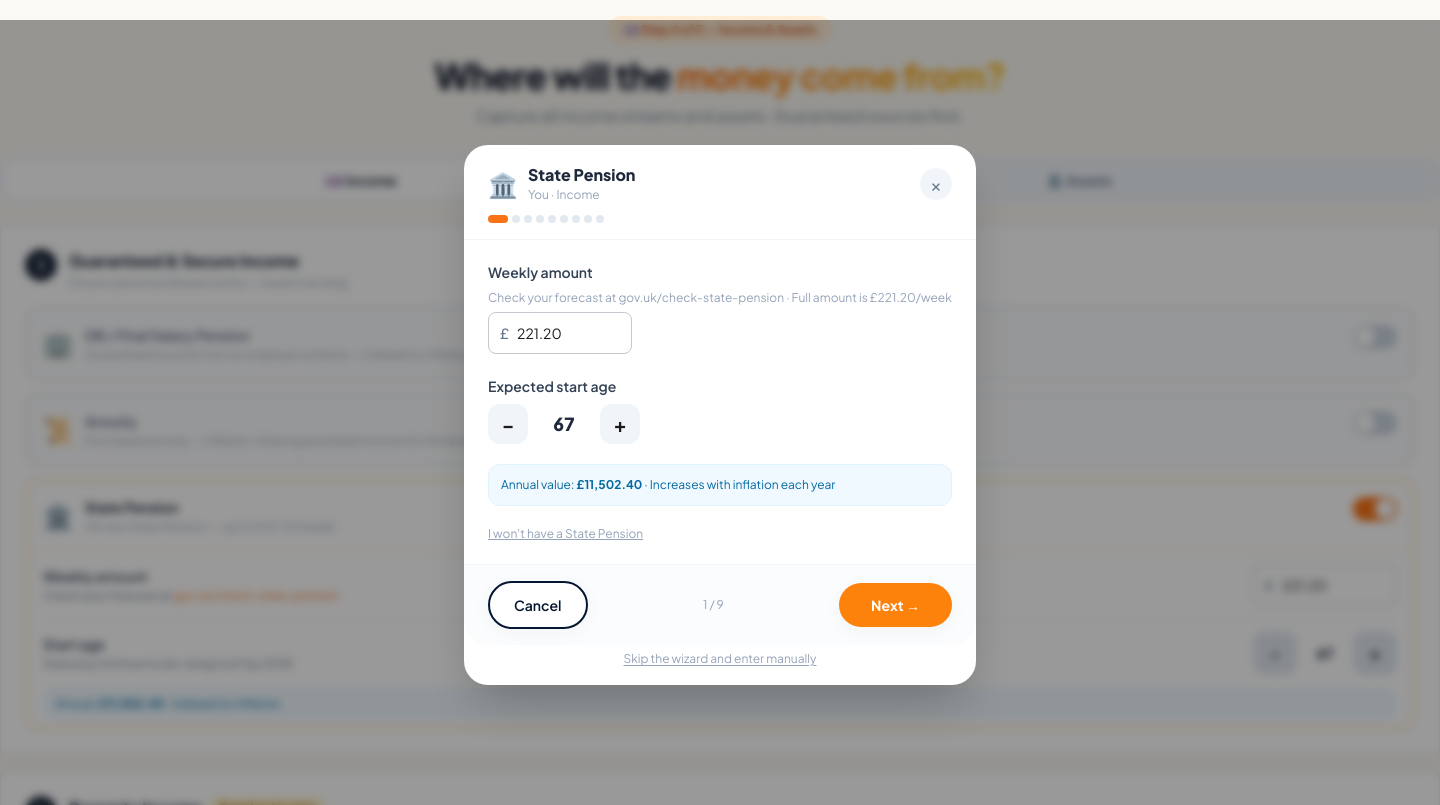
Test: Step3IncomeSources — guided wizard default behaviour › "Re-open guided setup" link shows the wizard again after dismissal
Click the button "Skip the wizard and enter manually".
click(720, 659)  # box [624, 651, 816, 667]
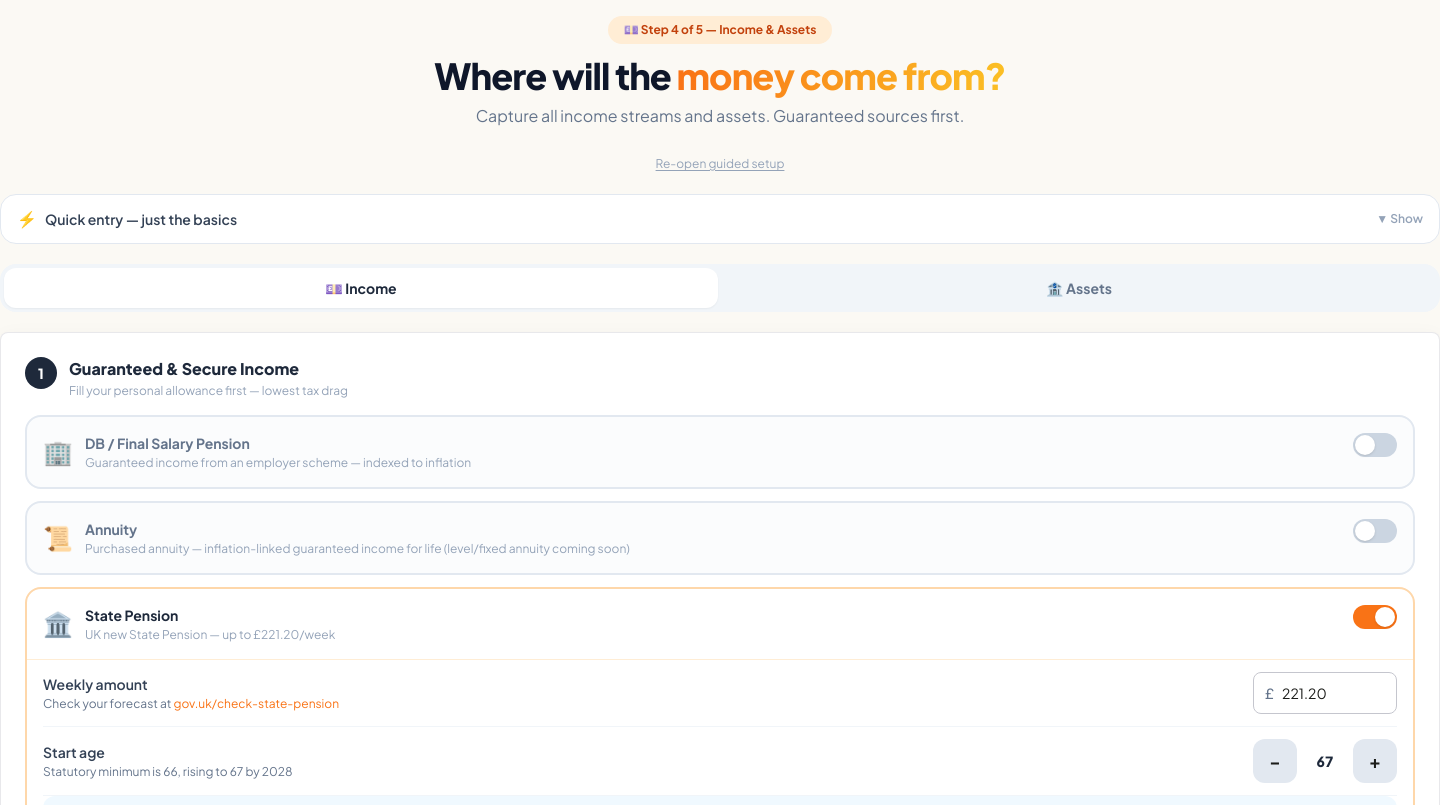
Click the button "Re-open guided setup".
click(720, 164)  # box [0, 156, 1439, 172]
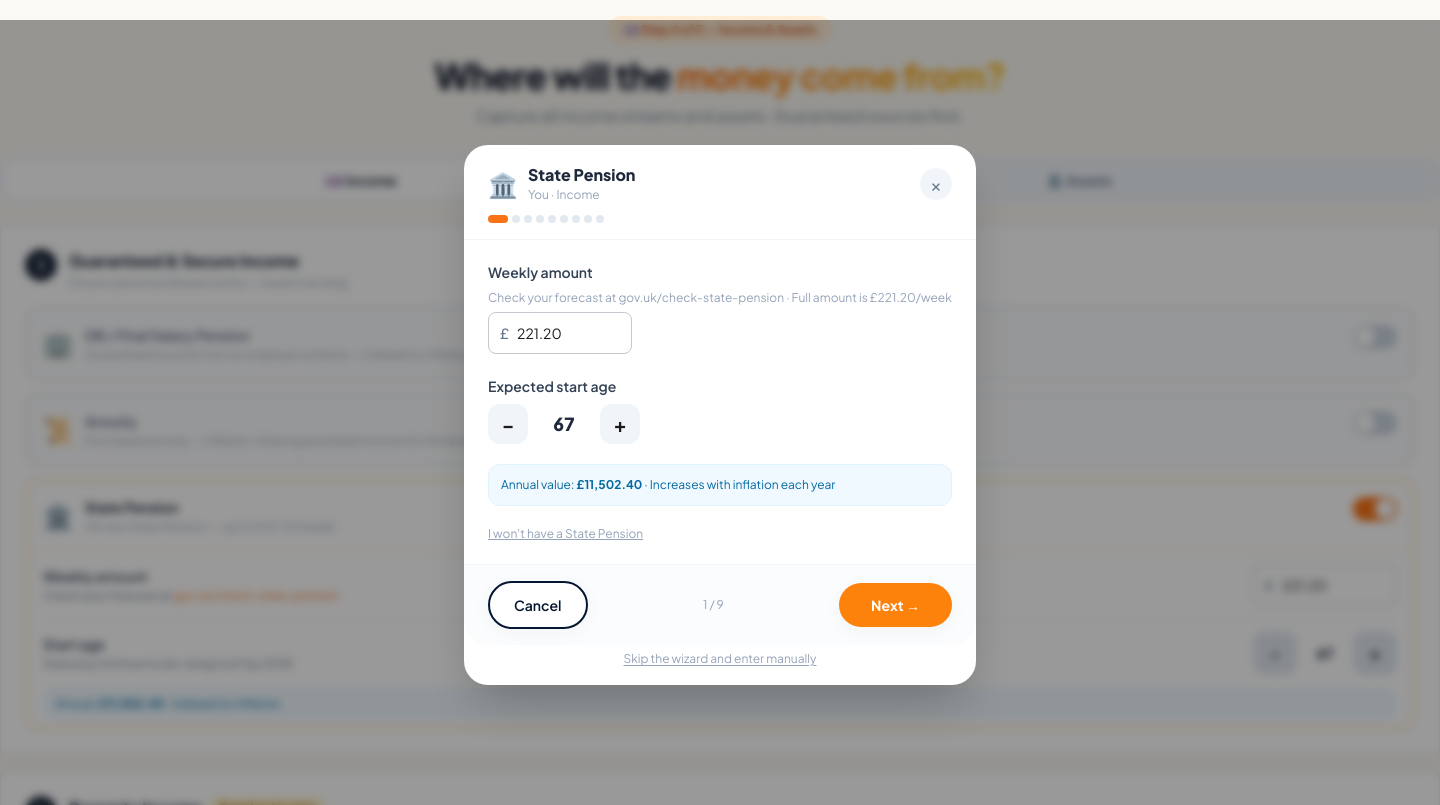
expect the button "Skip the wizard and enter manually" is shown: met, box [624, 651, 816, 667]
